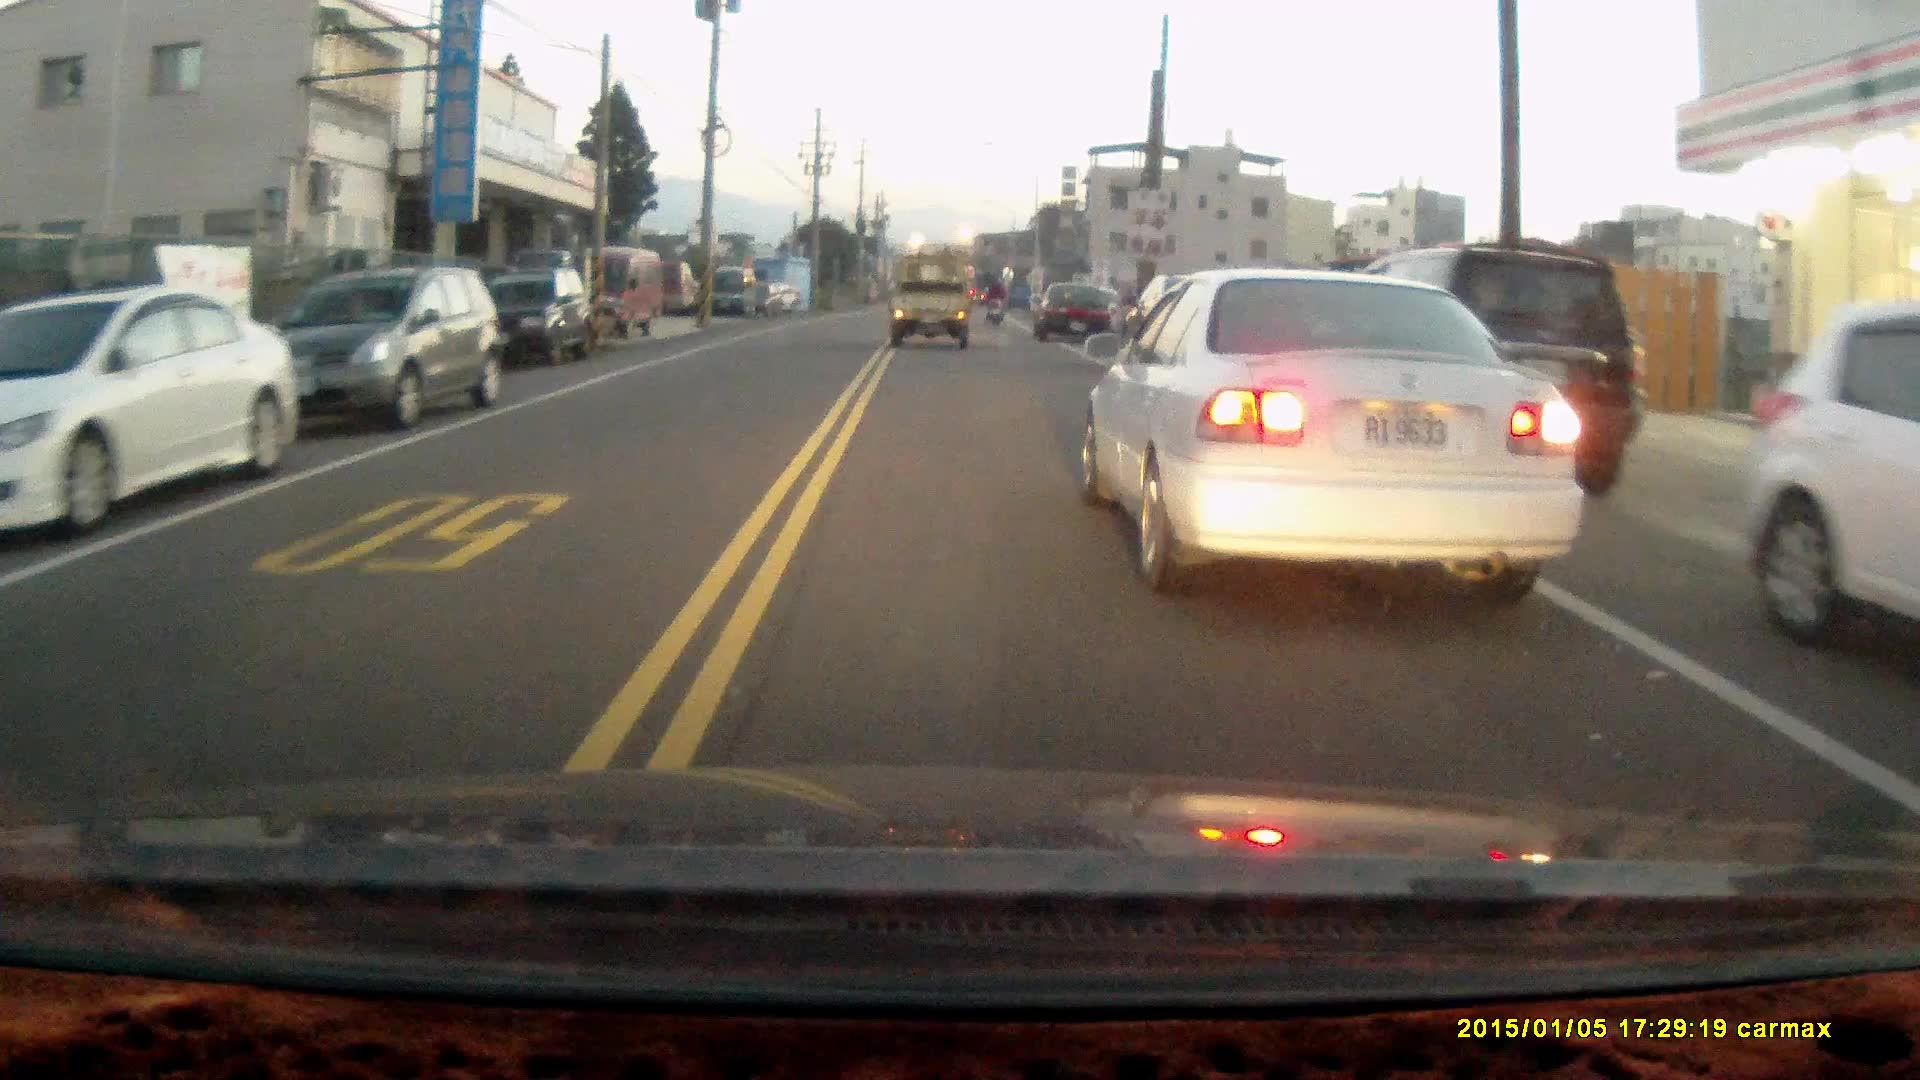rider: (981, 280, 1008, 328)
vehicle: (1077, 269, 1582, 595), (2, 289, 299, 534), (1356, 243, 1639, 491), (1749, 293, 1920, 644), (257, 268, 505, 433), (482, 270, 600, 371), (562, 246, 666, 339), (891, 266, 978, 366), (1037, 284, 1122, 345), (707, 270, 761, 321)
